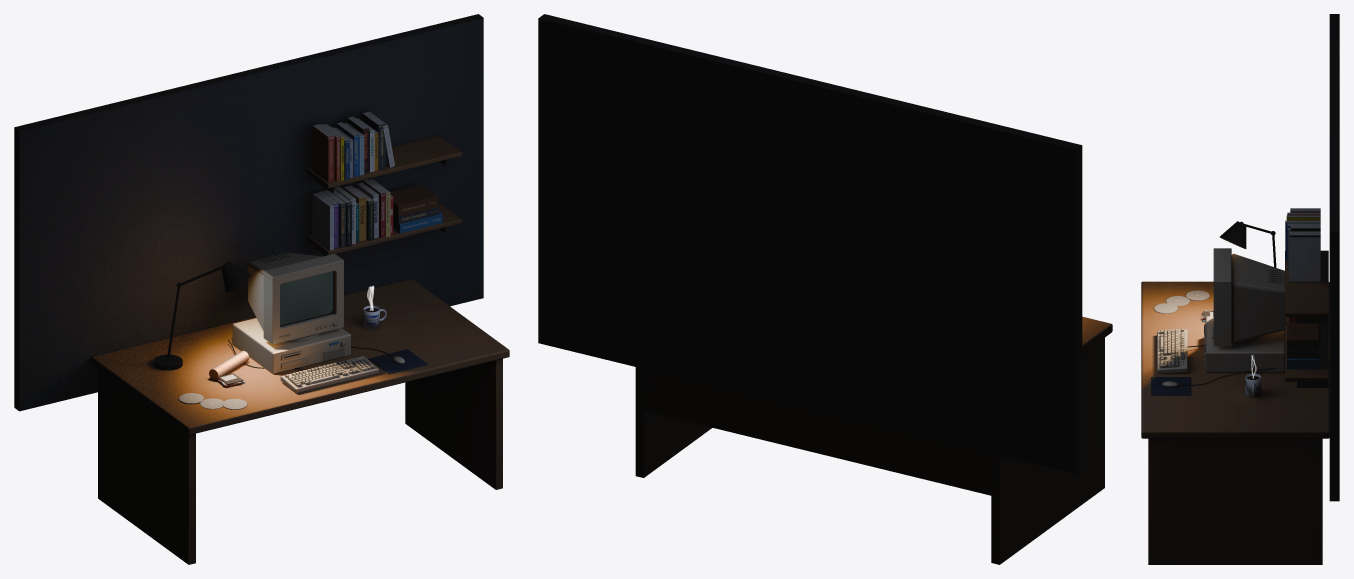
The model's file is desk.glb.
The picture shows the model from 3 angles, left to right: view 1: azimuth 30°, elevation 25°; view 2: azimuth 150°, elevation 25°; view 3: azimuth 270°, elevation 25°; orthographic projection. The views are drawn at different scales.
Visible parts, largest first — view 1: Bake_Fundo, Bake_Objetos, Bake_Computador, Screen; view 2: Bake_Fundo; view 3: Bake_Fundo, Bake_Objetos, Bake_Computador.
Boxes of the visible parts, x1,y1,x2,y2 form: Bake_Fundo: [14, 14, 509, 564]; Bake_Objetos: [153, 111, 461, 409]; Bake_Computador: [232, 252, 378, 393]; Screen: [280, 271, 332, 325]; Bake_Fundo: [538, 14, 1112, 564]; Bake_Fundo: [1141, 14, 1339, 564]; Bake_Objetos: [1151, 208, 1328, 397]; Bake_Computador: [1157, 248, 1284, 373].
Size of the model in its own units: 2.6 by 2.05 by 1.
6 materials, 3 textured.
